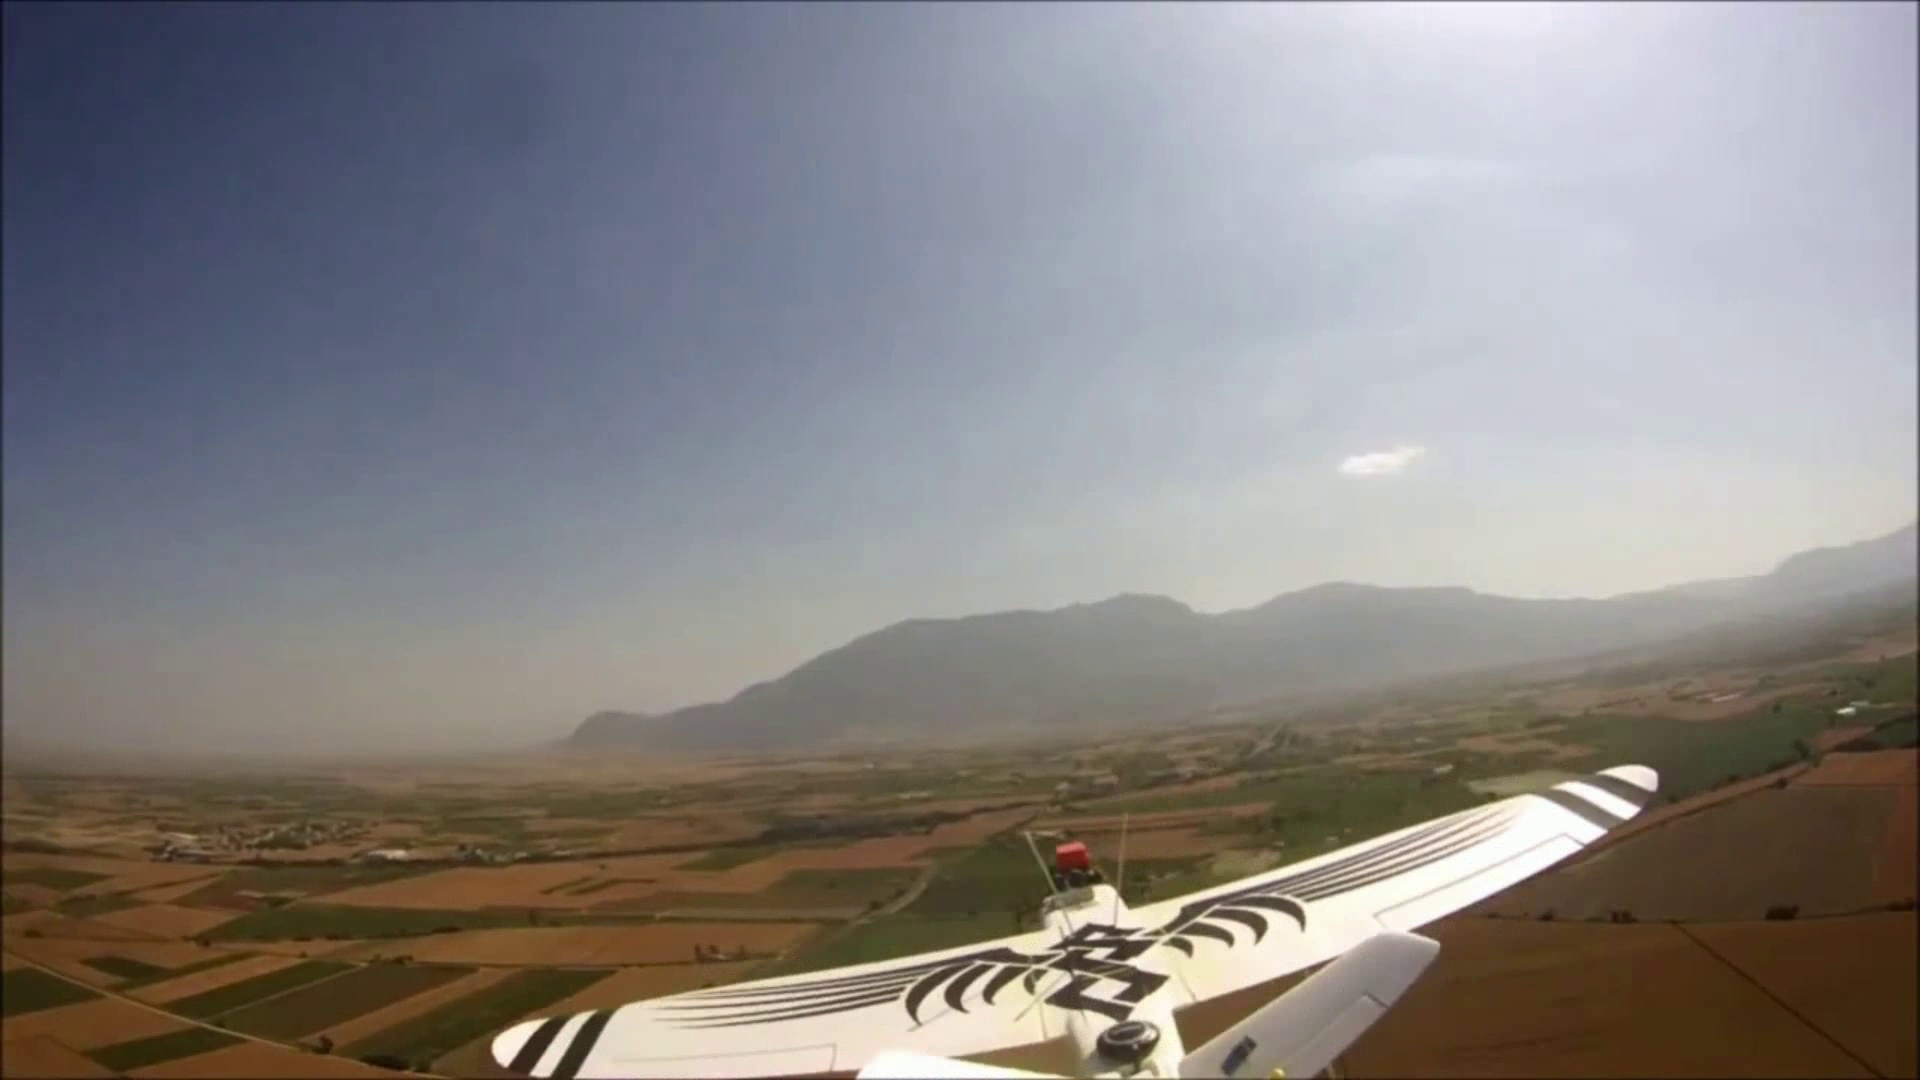airplane: (338, 723, 1909, 1072)
